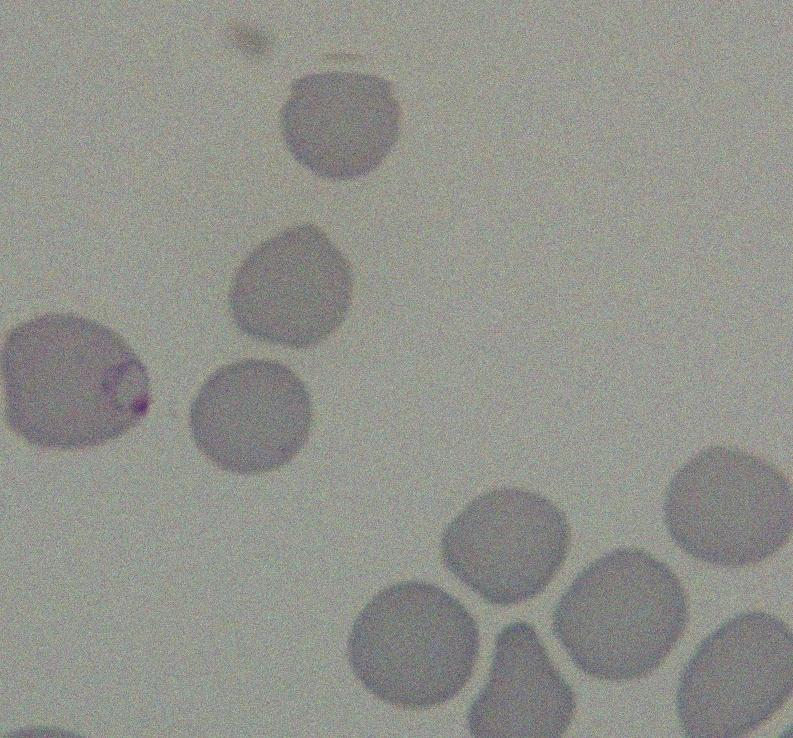Infected: (0, 313, 155, 451)
Uninfected: (556, 547, 693, 683), (346, 579, 479, 710), (660, 439, 793, 563), (672, 609, 793, 738), (438, 491, 576, 603), (232, 223, 356, 344), (188, 357, 316, 472), (276, 71, 405, 180), (464, 619, 579, 738)
